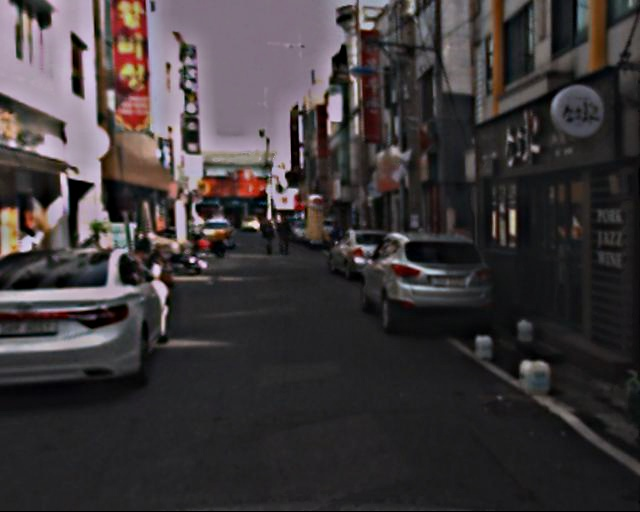person: (326, 216, 346, 269), (277, 212, 297, 263), (259, 214, 279, 260)
